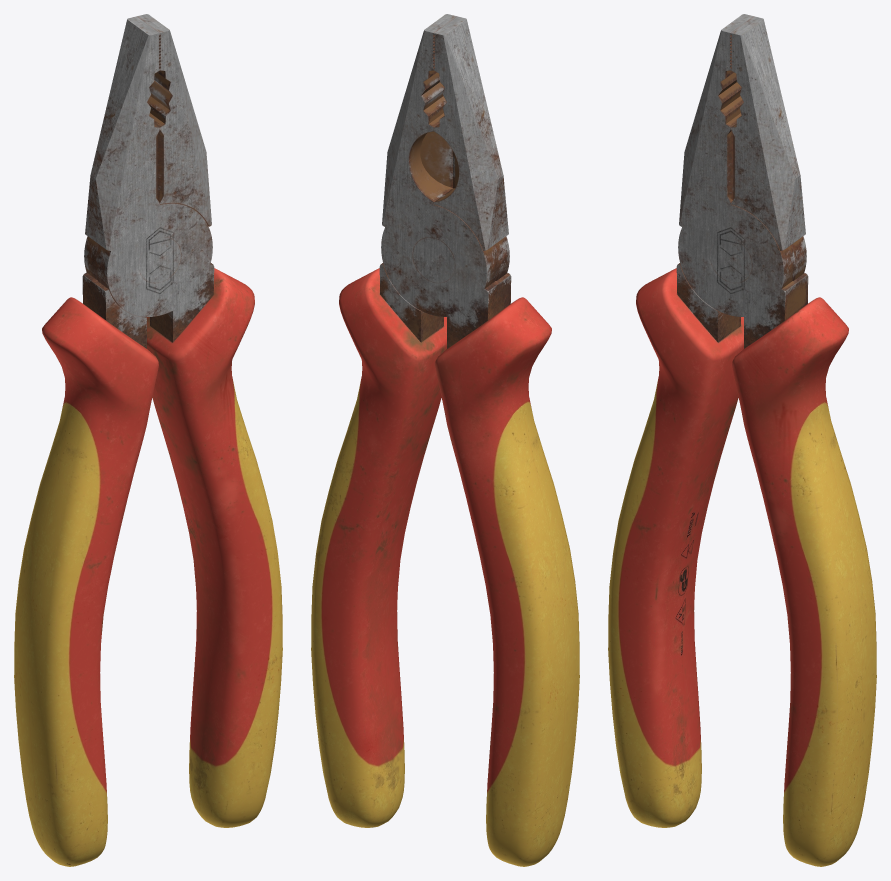
The picture shows the model from 3 angles, left to right: view 1: azimuth 30°, elevation 25°; view 2: azimuth 150°, elevation 25°; view 3: azimuth 330°, elevation 25°; orthographic projection.
Parts seen in each view (by area): view 1: pliers_b, pliers_a, pliers_pin; view 2: pliers_a, pliers_b, pliers_pin; view 3: pliers_b, pliers_a, pliers_pin.
Part boxes in pixels (bbox=[...]): pliers_b: bbox=[85, 16, 282, 827]; pliers_a: bbox=[14, 14, 211, 866]; pliers_pin: bbox=[138, 237, 181, 282]; pliers_a: bbox=[381, 14, 579, 866]; pliers_b: bbox=[311, 16, 509, 827]; pliers_pin: bbox=[412, 237, 455, 282]; pliers_b: bbox=[678, 14, 876, 866]; pliers_a: bbox=[608, 16, 806, 827]; pliers_pin: bbox=[709, 237, 752, 282].
Bounding box in the file's own units: 0.0553 × 0.1798 × 0.018.
1 material, 1 textured.
